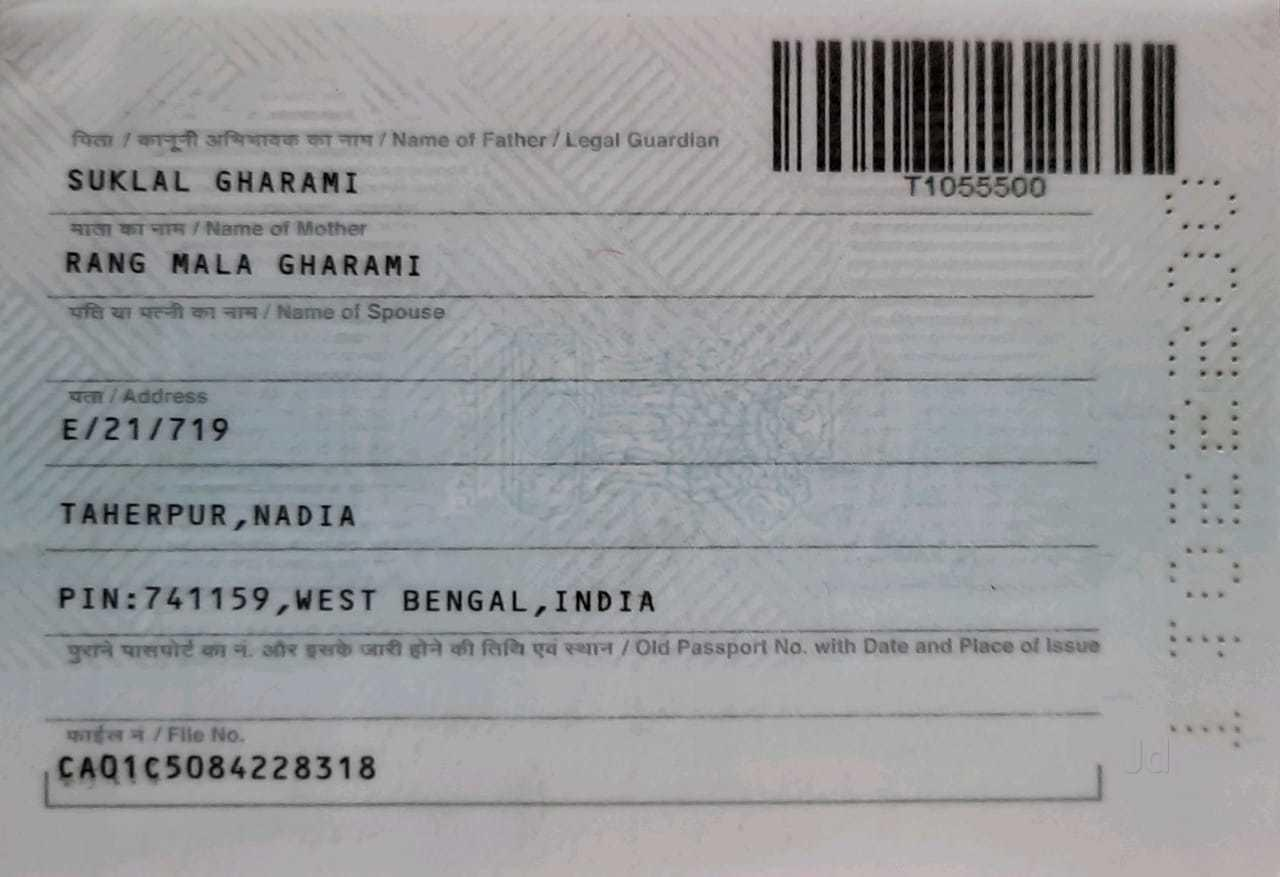File_no: (43, 748, 403, 792)
address: (50, 402, 727, 627)
father_name: (40, 152, 377, 211)
mother_name: (47, 243, 471, 291)
passport_no: (885, 160, 1060, 210)
